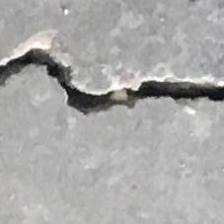Crack: (0, 22, 224, 135)
